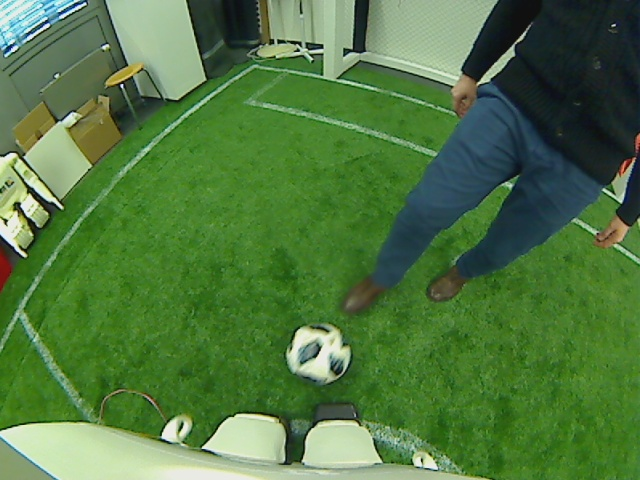ball: (284, 320, 352, 386)
